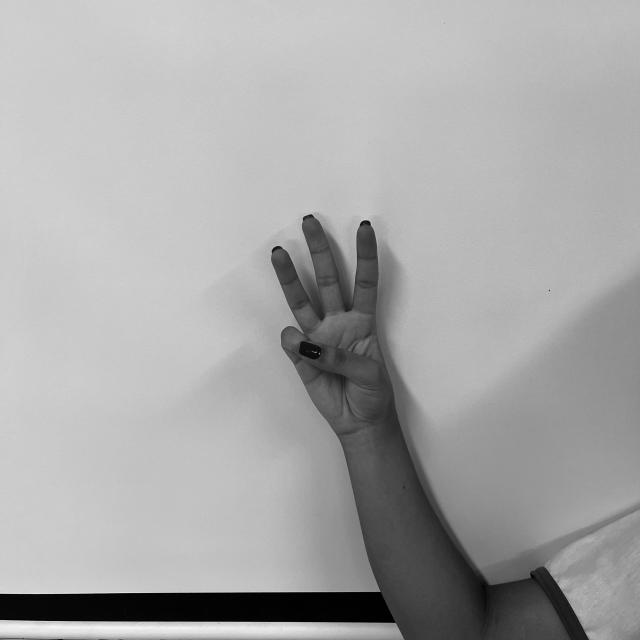Letra W: (264, 209, 402, 432)
